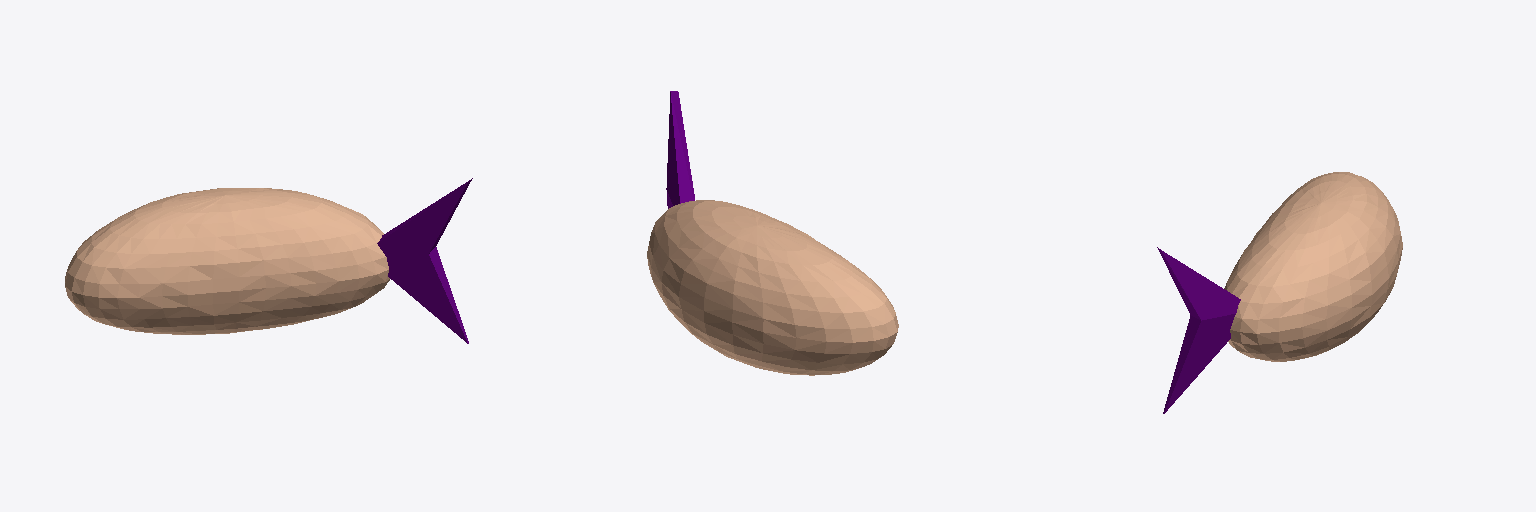
File: bodyandtail_L.obj
3 renders of one model, left to right at view 1: azimuth 30°, elevation 25°; view 2: azimuth 150°, elevation 25°; view 3: azimuth 270°, elevation 25°, orthographic.
Visible parts, largest first — view 1: Sphere001, Line001; view 2: Sphere001, Line001; view 3: Sphere001, Line001.
Part boxes in pixels (bbox=[...]): Sphere001: bbox=[65, 188, 389, 334]; Line001: bbox=[377, 178, 472, 343]; Sphere001: bbox=[647, 200, 898, 375]; Line001: bbox=[666, 91, 694, 208]; Sphere001: bbox=[1224, 172, 1402, 361]; Line001: bbox=[1157, 247, 1240, 413].
Bounding box in the file's own units: 3.67 × 1.85 × 2.49.